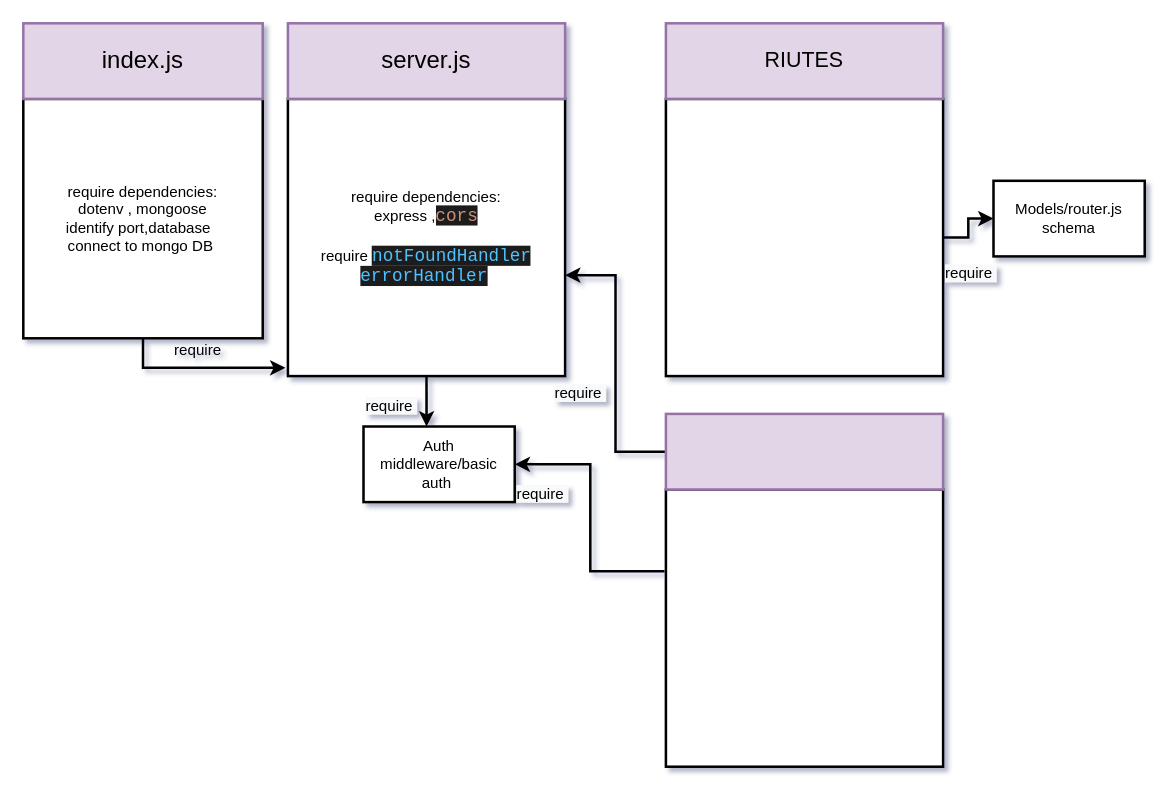
The diagram is 1174 pixels wide and 796 high, and some of its shapes have lost their labels. Each missing label, with the box of its shape:
--test--: (664, 412, 944, 490)
/signup with method post /signin with method post: (664, 97, 944, 377)
servere.test..js 500.test basic-auth.test: (664, 488, 944, 767)
